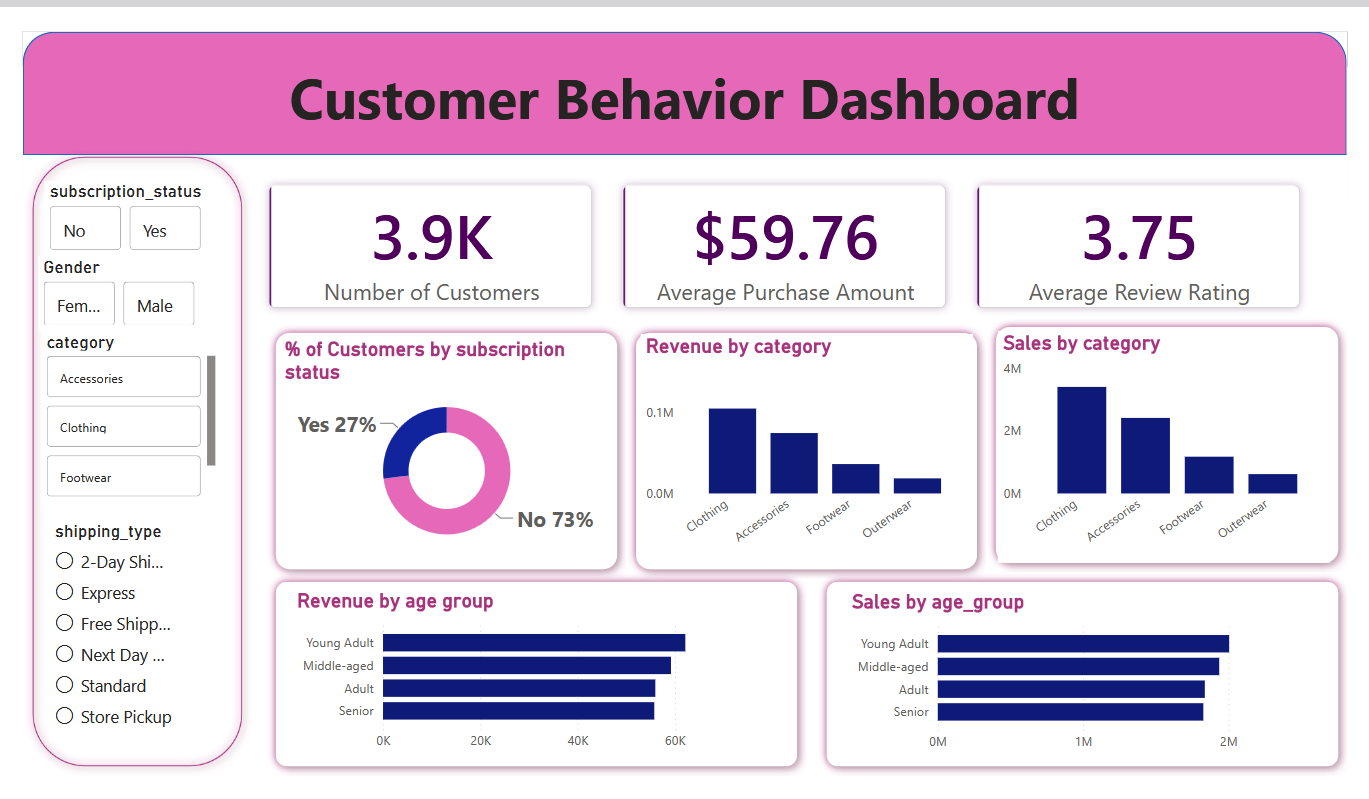

This screenshot's page, from the dashboard's own definition file:
{"tool":"powerbi","page":{"name":"Page 1","canvas":[1280,720],"ordinal":0},"visuals":[{"type":"cardVisual","fields":{"Data":["public customer.Number of Customers","public customer.Average Purchase Amount","public customer.Average Review Rating"]},"box":[210.5,119.6,1052.4,175.6],"z":0},{"type":"actionButton","box":[0,0,100,40],"z":1000},{"type":"shape","box":[0,0,1279.4,119.1],"z":2000},{"type":"textbox","box":[0,20.8,1279.4,98.3],"z":3000},{"type":"shape","box":[234.7,281.6,348.3,246.8],"z":4000},{"type":"donutChart","title":"% of Customers by subscription status","fields":{"Category":["public customer.subscription_status"],"Y":["CountNonNull(public customer.customer_id)"]},"box":[248.3,295.3,322.5,213.5],"z":5000},{"type":"shape","box":[0,112.1,221.1,607.2],"z":6000},{"type":"advancedSlicerVisual","fields":{"Values":["public customer.subscription_status"]},"box":[21.2,143.8,157.5,72.7],"z":7000},{"type":"shape","box":[583,281.6,348.3,246.8],"z":8000},{"type":"shape","box":[931.2,275.6,348.3,246.8],"z":9000},{"type":"columnChart","title":"Revenue by category","fields":{"Y":["Sum(public customer.purchase_amount)"],"Category":["public customer.category"]},"box":[596.6,292.2,321,221.1],"z":10000},{"type":"columnChart","title":"Sales by category","fields":{"Category":["public customer.category"],"Y":["Sum(public customer.customer_id)"]},"box":[941.8,289.2,321,224.1],"z":11000},{"type":"advancedSlicerVisual","fields":{"Values":["public customer.gender"]},"box":[15.1,216.5,157.5,72.7],"z":12000},{"type":"advancedSlicerVisual","fields":{"Values":["public customer.category"]},"box":[18.2,289.2,172.6,168.1],"z":13000},{"type":"listSlicer","fields":{"Values":["public customer.shipping_type"]},"box":[25.7,472.4,137.8,213.5],"z":14000},{"type":"shape","box":[234.7,522.4,522.4,196.8],"z":14001},{"type":"clusteredBarChart","title":"Revenue by age group","fields":{"Y":["Sum(public customer.purchase_amount)"],"Category":["public customer.age_group"]},"box":[260.4,537.5,431.5,165],"z":14004},{"type":"shape","box":[767.7,522.4,511.8,196.8],"z":14005},{"type":"clusteredBarChart","title":"Sales by age_group","fields":{"Category":["public customer.age_group"],"Y":["Sum(public customer.customer_id)"]},"box":[796.5,539.1,452.7,165],"z":14006}]}

Visuals, with their boxes on the page's 1280x720 design canvas (x1, y1, x2, y2). These are canvas units, not pixel positions in the 1369x799 screenshot, which may show the page scaled, cropped or inside an application window:
cardVisual - public customer.Number of Customers x public customer.Average Purchase Amount: <box>210,120,1263,295</box>
actionButton: <box>0,0,100,40</box>
shape: <box>0,0,1279,119</box>
textbox: <box>0,21,1279,119</box>
shape: <box>235,282,583,528</box>
"% of Customers by subscription status" donutChart: <box>248,295,571,509</box>
shape: <box>0,112,221,719</box>
advancedSlicerVisual - public customer.subscription_status: <box>21,144,179,216</box>
shape: <box>583,282,931,528</box>
shape: <box>931,276,1280,522</box>
"Revenue by category" columnChart: <box>597,292,918,513</box>
"Sales by category" columnChart: <box>942,289,1263,513</box>
advancedSlicerVisual - public customer.gender: <box>15,216,173,289</box>
advancedSlicerVisual - public customer.category: <box>18,289,191,457</box>
listSlicer - public customer.shipping_type: <box>26,472,164,686</box>
shape: <box>235,522,757,719</box>
"Revenue by age group" clusteredBarChart: <box>260,538,692,702</box>
shape: <box>768,522,1280,719</box>
"Sales by age_group" clusteredBarChart: <box>796,539,1249,704</box>
